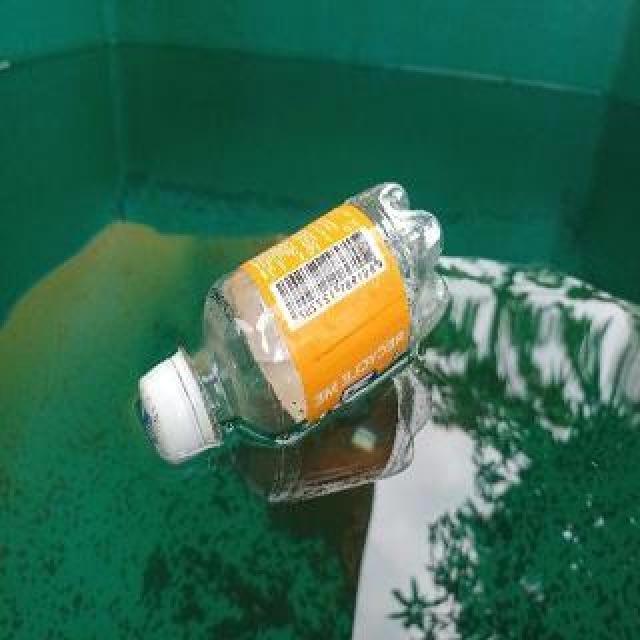Bottle: (124, 127, 474, 473)
